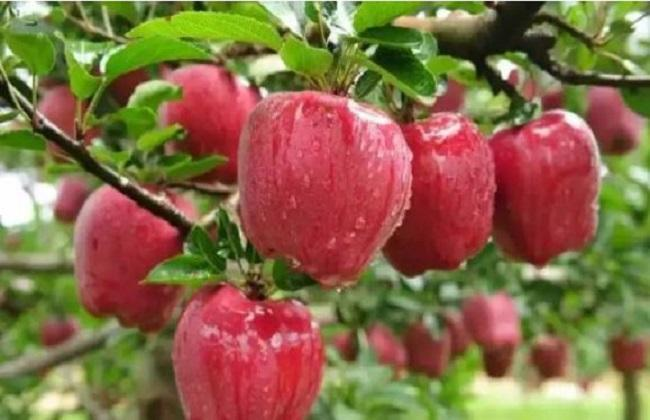apple: (237, 90, 413, 290), (169, 281, 328, 420), (72, 172, 194, 335), (380, 109, 496, 278), (491, 109, 606, 271)
